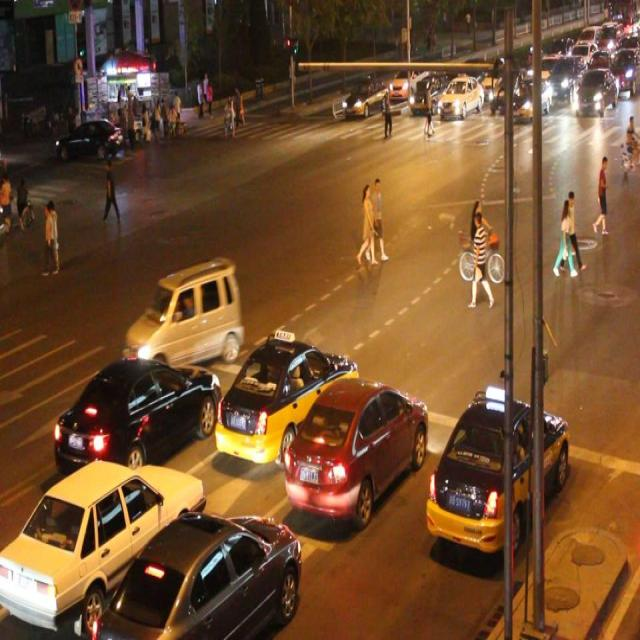car: (1, 460, 202, 629), (91, 507, 302, 640), (428, 395, 567, 551), (286, 375, 428, 520), (216, 332, 358, 464), (56, 357, 219, 469), (125, 262, 240, 366), (58, 119, 122, 155), (436, 73, 482, 118), (344, 74, 387, 116), (409, 70, 445, 114)
